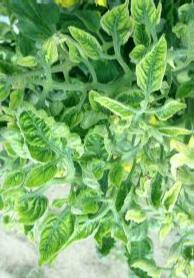Tomato leaf mosaic virus: (35, 207, 78, 267), (135, 34, 170, 94), (19, 110, 57, 149), (17, 192, 48, 224), (25, 162, 62, 186)
